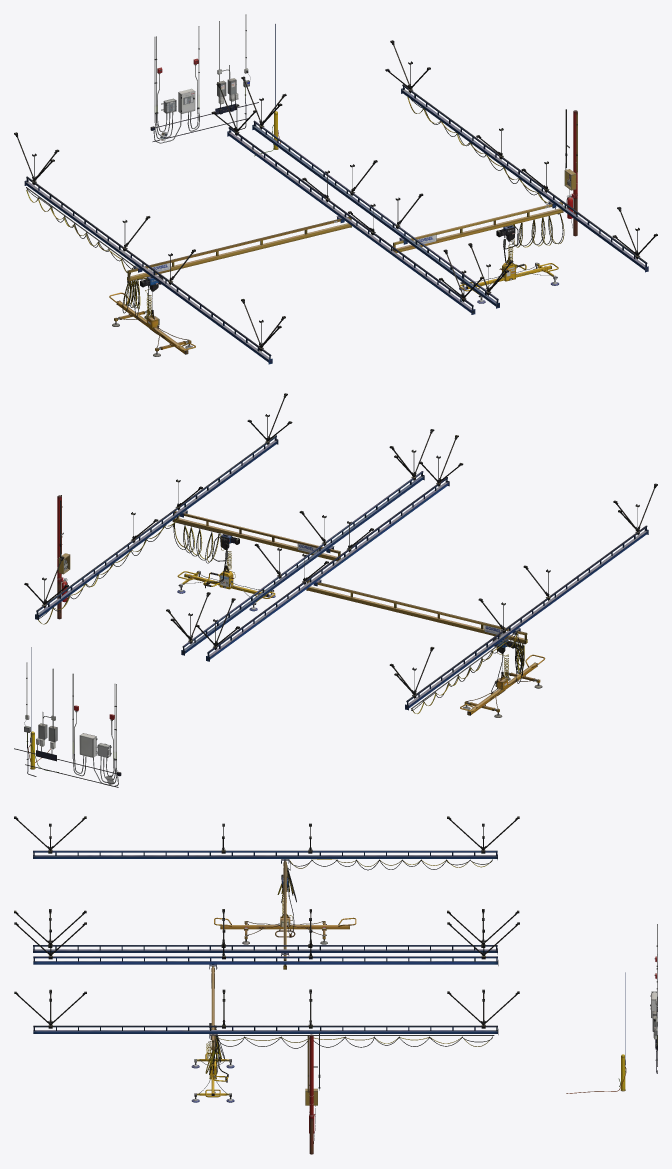
File: paper_wall.glb
The picture shows the model from 3 angles, top to bottom: view 1: azimuth 30°, elevation 25°; view 2: azimuth 150°, elevation 25°; view 3: azimuth 270°, elevation 25°; orthographic projection. The views are drawn at different scales.
Parts seen in each view (by area): view 1: CraneA_Runway, CraneB_Runway, FlamexWall, CraneA_Bridge, CraneB_Bridge, CraneA_Lifter, CraneB_Lifter, Column_COL2_Red, CraneA_RunwayFestoon, CraneB_BridgeFestoon; view 2: CraneA_Runway, CraneB_Runway, FlamexWall, CraneA_Bridge, CraneB_Bridge, CraneA_Lifter, CraneB_Lifter, CraneB_BridgeFestoon, CraneA_RunwayFestoon; view 3: CraneB_Runway, CraneA_Runway, CraneA_Lifter, CraneB_RunwayFestoon, FlamexWall, Column_COL2_Red, CraneB_Lifter, CraneA_RunwayFestoon.
Part boxes in pixels (box(x1,y1,x2,y2)): CraneA_Runway: box(14, 83, 484, 364); CraneB_Runway: box(241, 40, 657, 308); FlamexWall: box(150, 14, 280, 156); CraneA_Bridge: box(127, 216, 351, 281); CraneB_Bridge: box(392, 201, 563, 252); CraneA_Lifter: box(109, 292, 195, 356); CraneB_Lifter: box(459, 260, 558, 303); Column_COL2_Red: box(565, 109, 577, 236); CraneA_RunwayFestoon: box(26, 187, 134, 272); CraneB_BridgeFestoon: box(512, 208, 564, 247); CraneA_Runway: box(195, 435, 657, 710); CraneB_Runway: box(24, 393, 434, 655); FlamexWall: box(14, 647, 121, 787); CraneA_Bridge: box(306, 579, 527, 643); CraneB_Bridge: box(172, 510, 340, 561); CraneA_Lifter: box(460, 654, 545, 717); CraneB_Lifter: box(177, 568, 275, 611); CraneB_BridgeFestoon: box(172, 517, 220, 563); CraneA_RunwayFestoon: box(411, 630, 517, 713); CraneB_Runway: box(14, 922, 519, 1034); CraneA_Runway: box(14, 816, 519, 954); CraneA_Lifter: box(214, 914, 356, 944); CraneB_RunwayFestoon: box(215, 1035, 494, 1048); FlamexWall: box(566, 924, 657, 1093); Column_COL2_Red: box(307, 1032, 320, 1154); CraneB_Lifter: box(191, 1053, 234, 1102); CraneA_RunwayFestoon: box(289, 859, 492, 870).
Size of the model in its own units: 14.39 by 3.94 by 18.14.
Materials: 67 (66 with a texture image).
